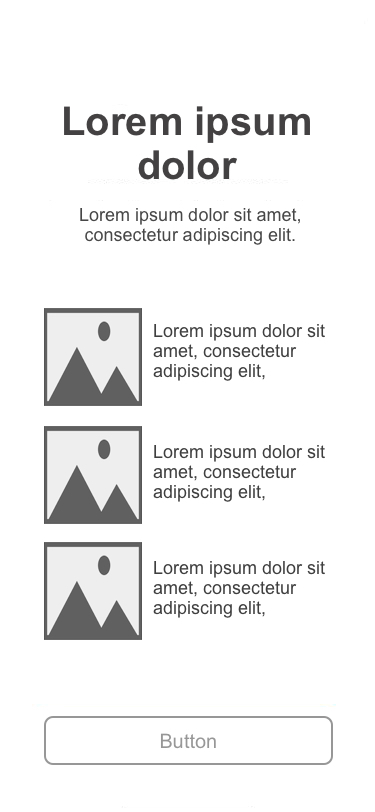Image: (44, 308, 143, 407), (44, 426, 143, 525), (44, 542, 143, 641)
Text: (64, 106, 311, 182), (153, 322, 326, 382), (153, 444, 326, 503), (153, 561, 326, 619), (80, 208, 301, 247)
TextButton: (45, 716, 334, 766)
